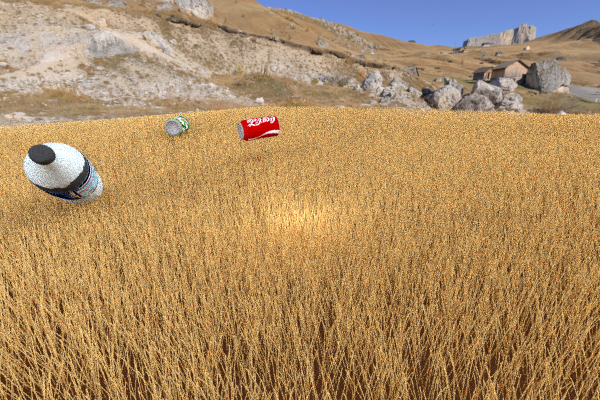Plastic Bottle: (23, 142, 102, 204), (237, 115, 280, 141), (164, 116, 189, 135)
